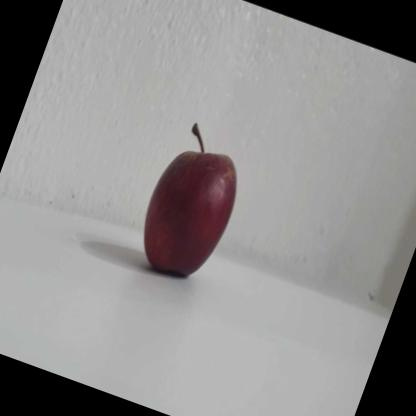apple: (124, 113, 259, 294)
